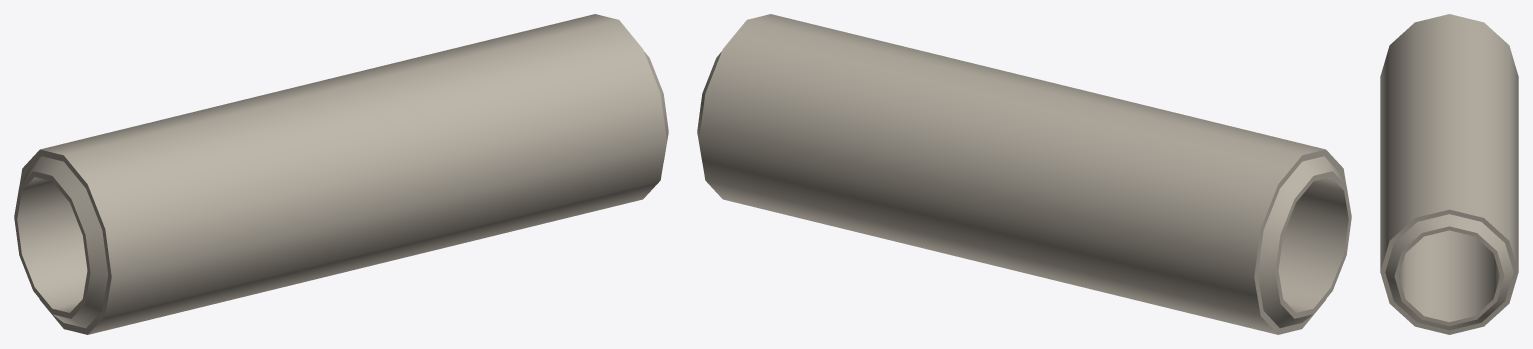
File: SM_Pipe_01.fbx
3 renders of one model, left to right at view 1: azimuth 30°, elevation 25°; view 2: azimuth 150°, elevation 25°; view 3: azimuth 270°, elevation 25°, orthographic. The views are drawn at different scales.
Parts seen in each view (by area): view 1: SM_Pipe_01; view 2: SM_Pipe_01; view 3: SM_Pipe_01.
Boxes of the visible parts, x1=… form: SM_Pipe_01: x1=14, y1=14, x2=668, y2=334; SM_Pipe_01: x1=697, y1=14, x2=1351, y2=334; SM_Pipe_01: x1=1380, y1=14, x2=1518, y2=334.
Size of the model in its own units: 441 by 126 by 126.
